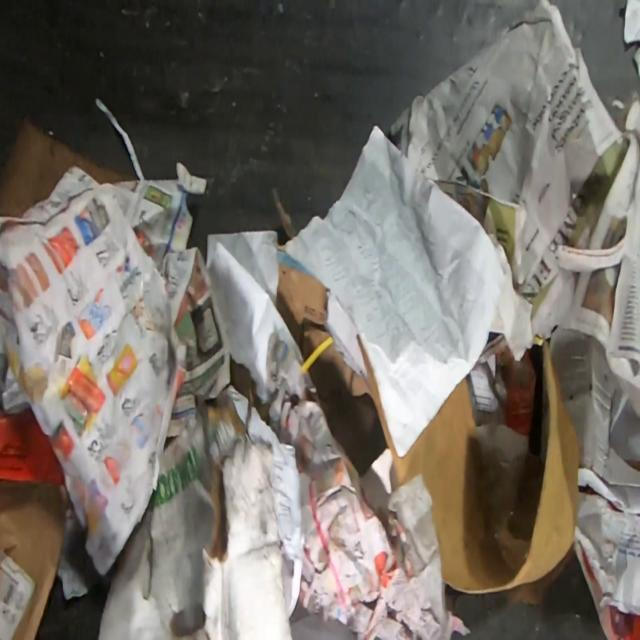cardboard: (355, 331, 580, 595), (96, 387, 294, 640), (0, 113, 138, 216), (0, 478, 70, 640), (307, 342, 386, 479), (276, 242, 332, 361), (0, 406, 65, 485), (225, 356, 270, 425)
